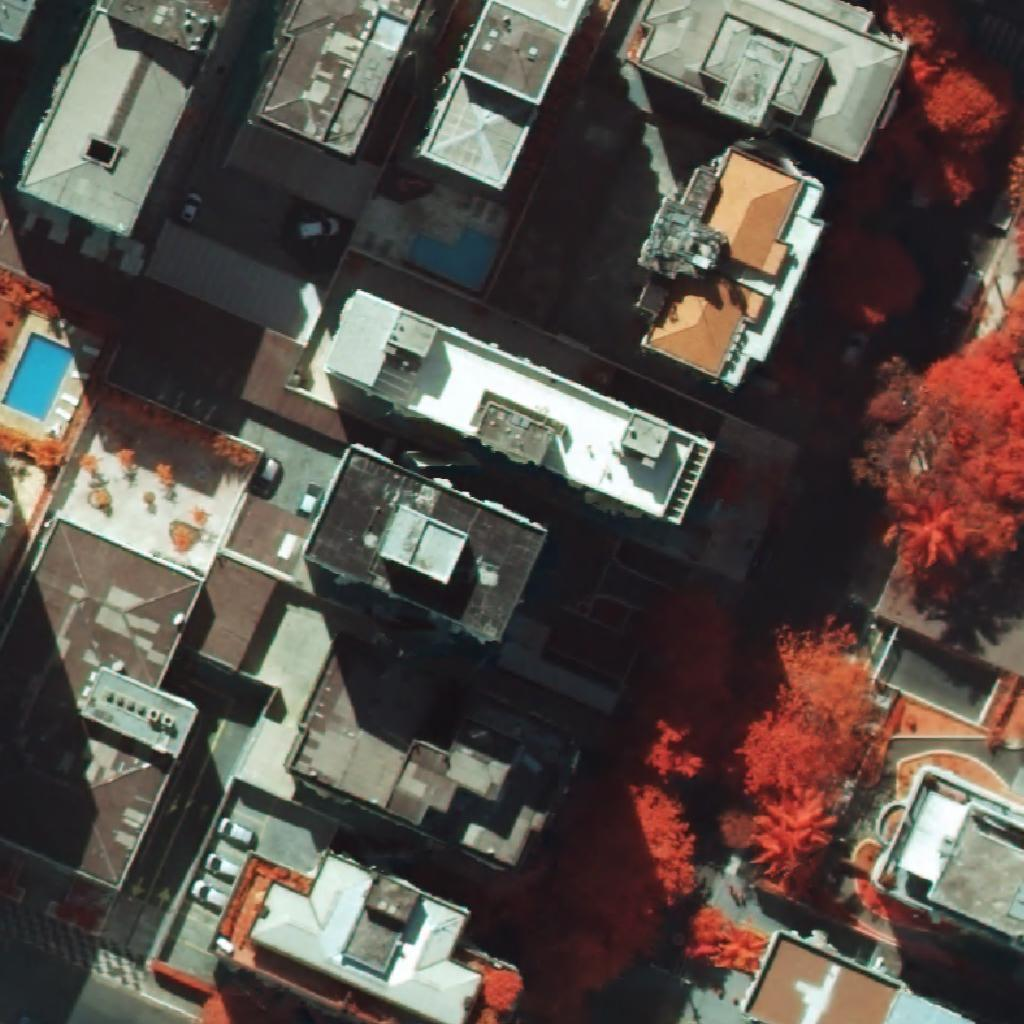pool: (2, 333, 75, 422), (410, 228, 497, 288)
